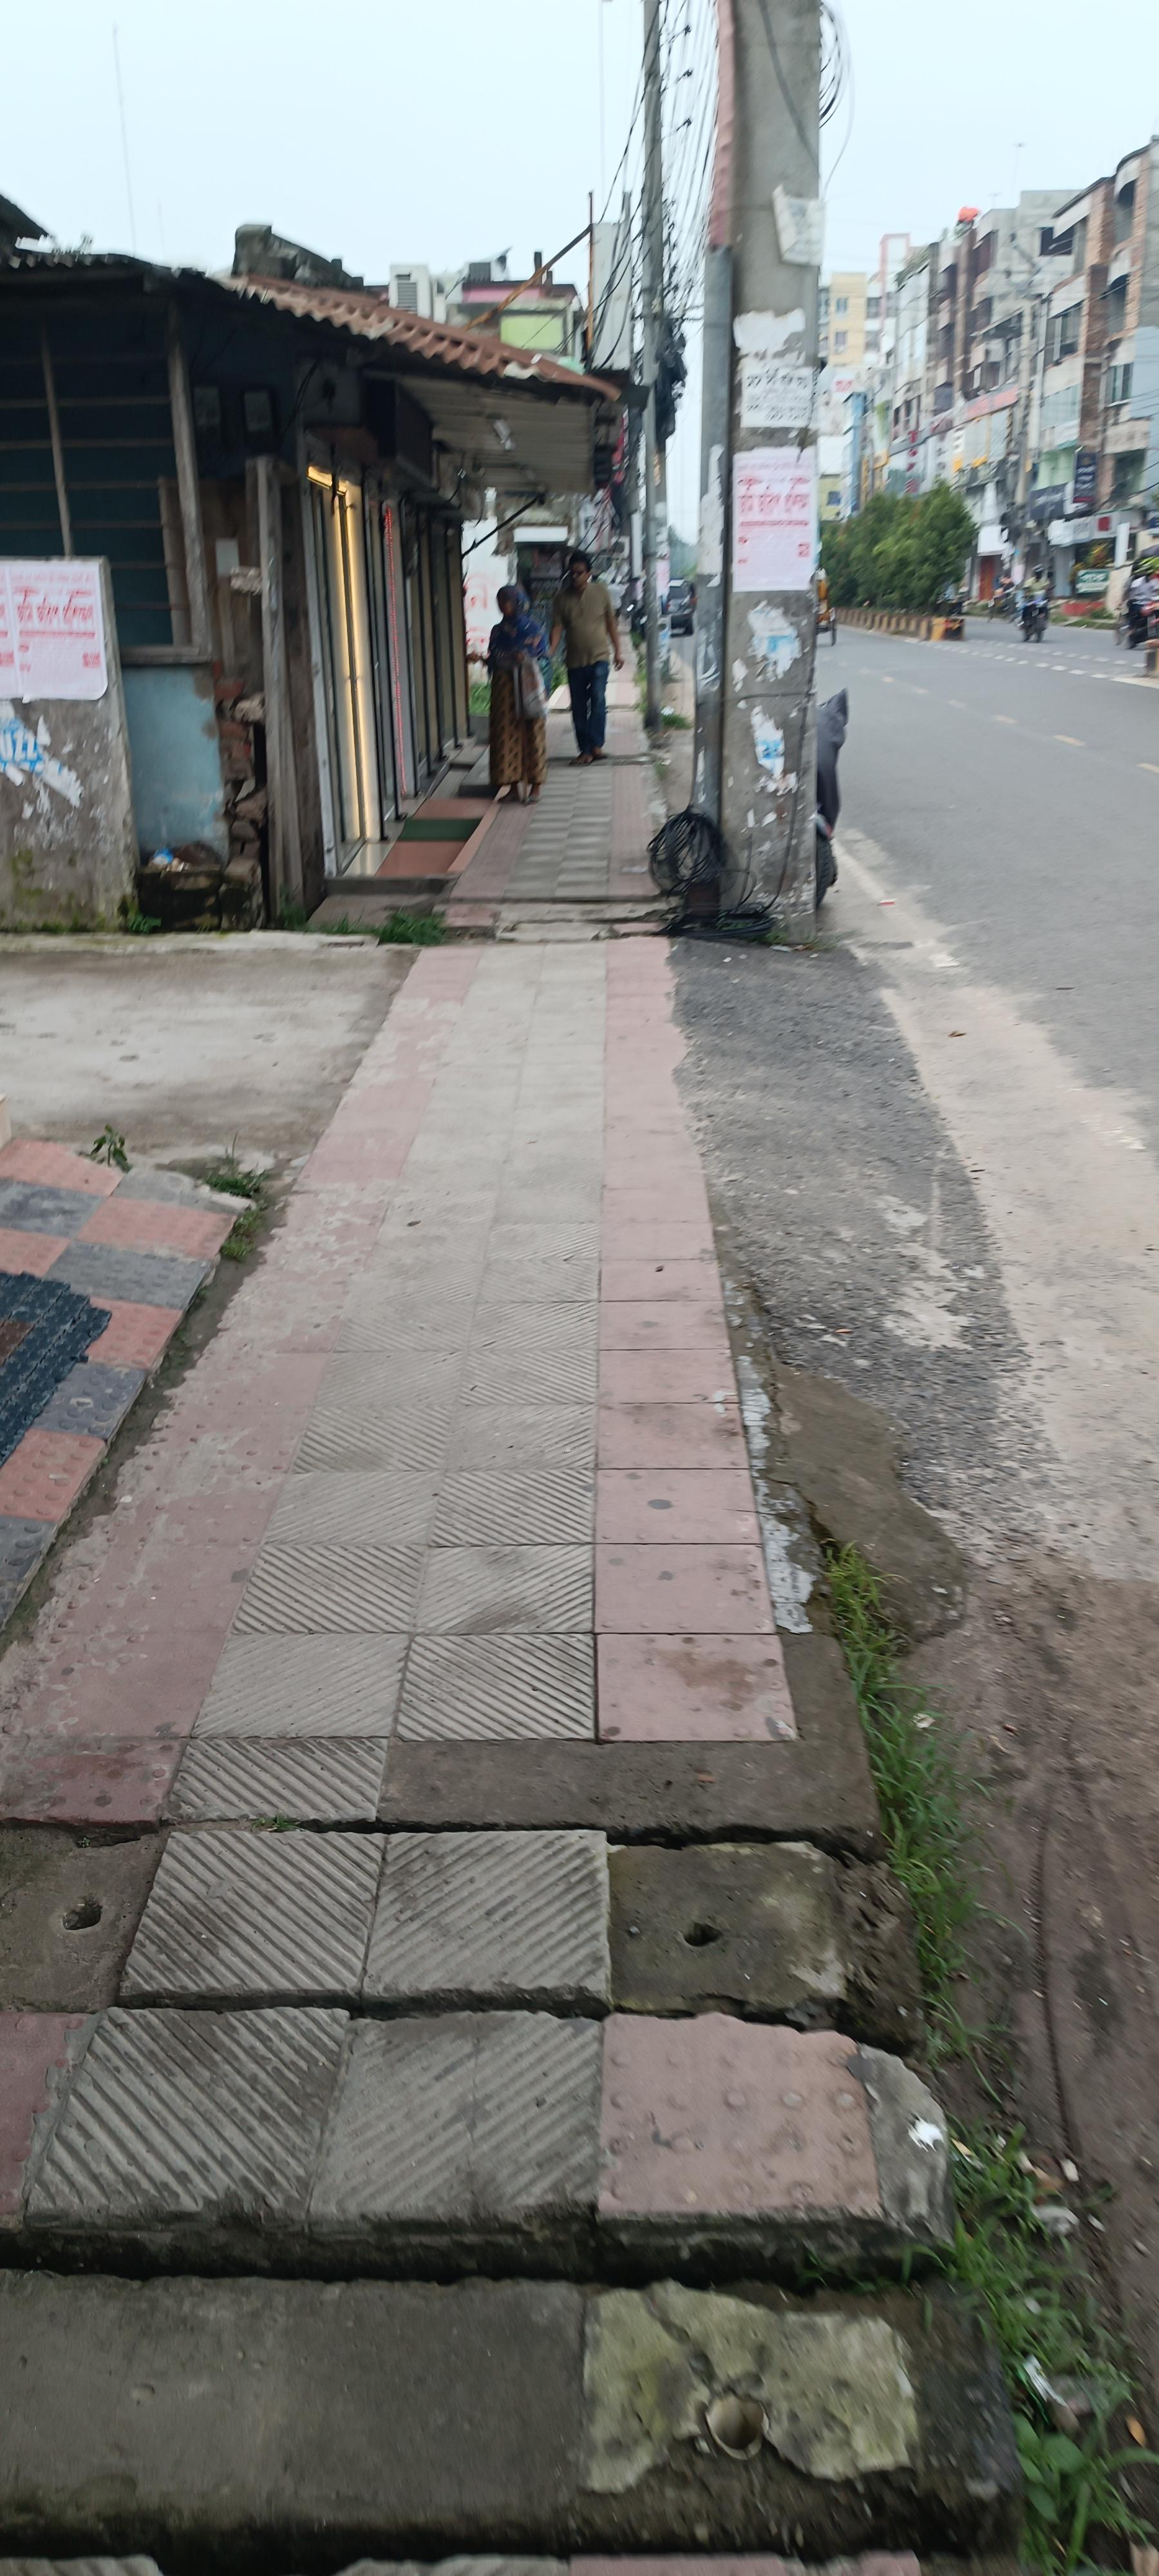Garbage-bin: (550, 550, 625, 766), (481, 582, 550, 803)
Pothole: (323, 922, 916, 2576)
